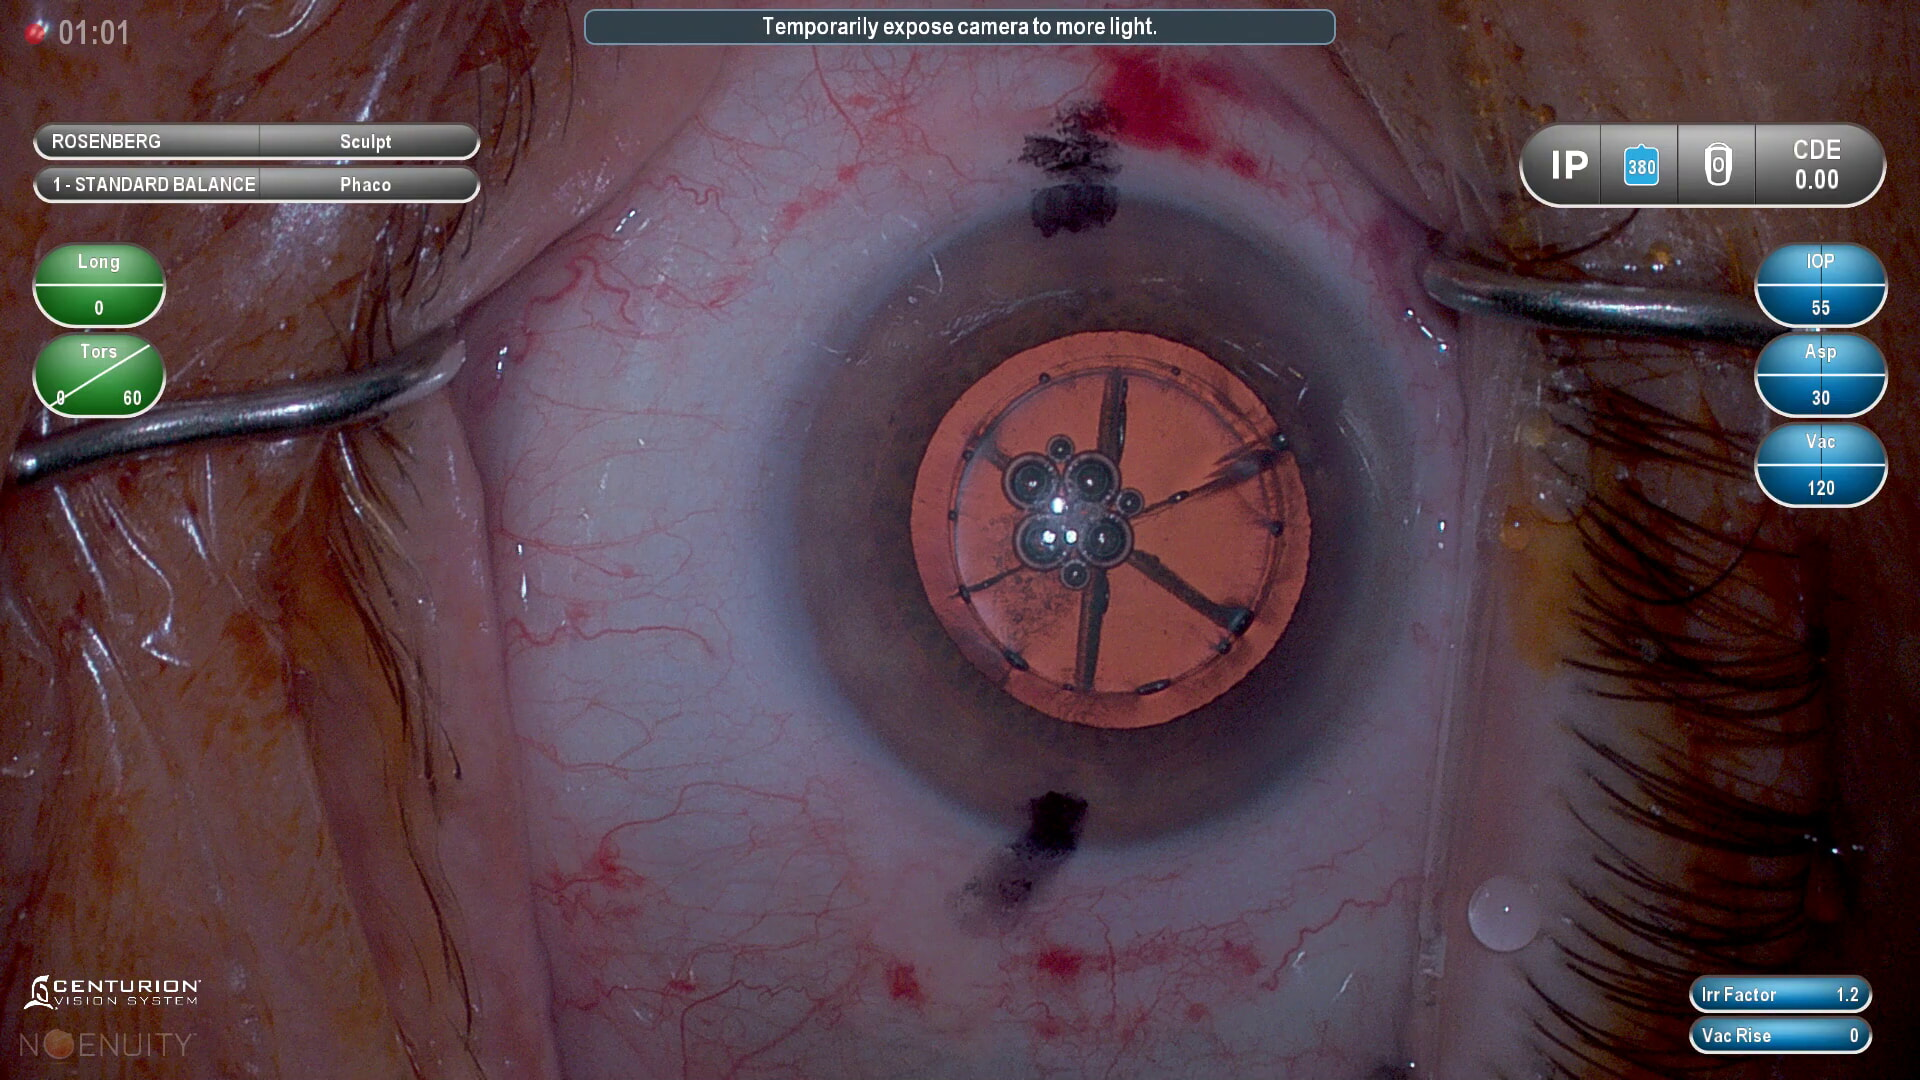iris: (796, 204, 1408, 831)
pupil: (920, 333, 1315, 733)
